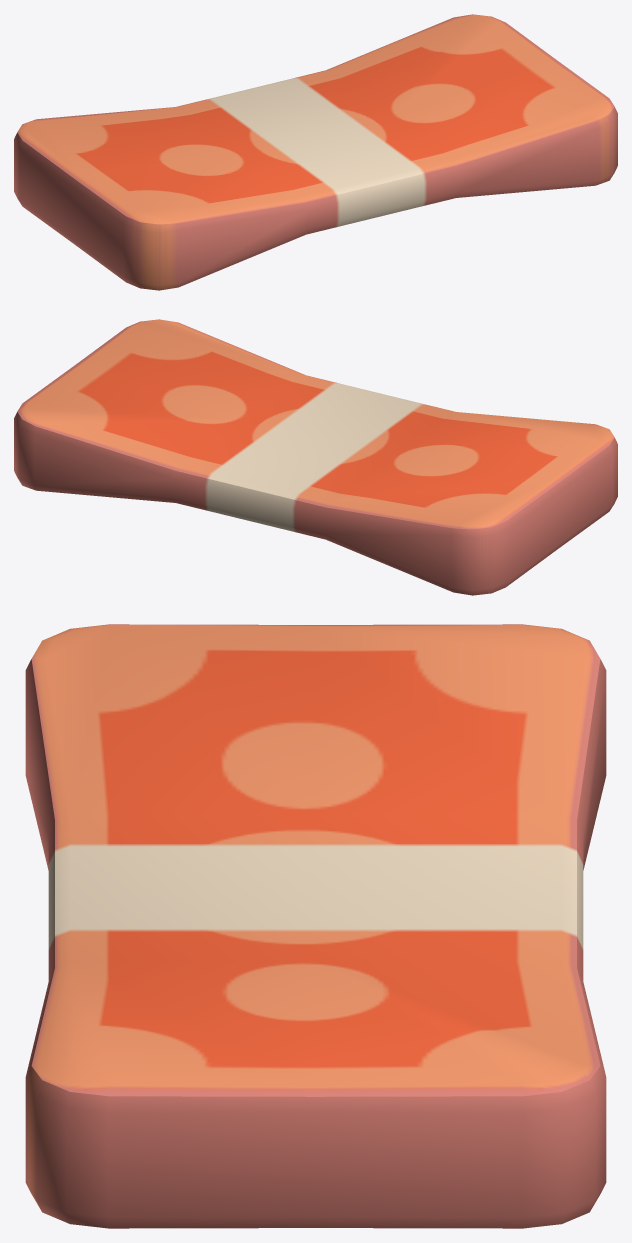
File: red_money.fbx
3 views of the same model, one above another, from view 1: azimuth 30°, elevation 25°; view 2: azimuth 150°, elevation 25°; view 3: azimuth 270°, elevation 25° (orthographic). The views are drawn at different scales.
Parts seen in each view (by area): view 1: green money; view 2: green money; view 3: green money.
Part boxes in pixels (bbox=[...]): green money: bbox=[14, 14, 617, 290]; green money: bbox=[14, 319, 617, 595]; green money: bbox=[25, 624, 606, 1228].
Bounding box in the file's own units: 133 × 18.71 × 68.56.
1 material, 1 textured.
